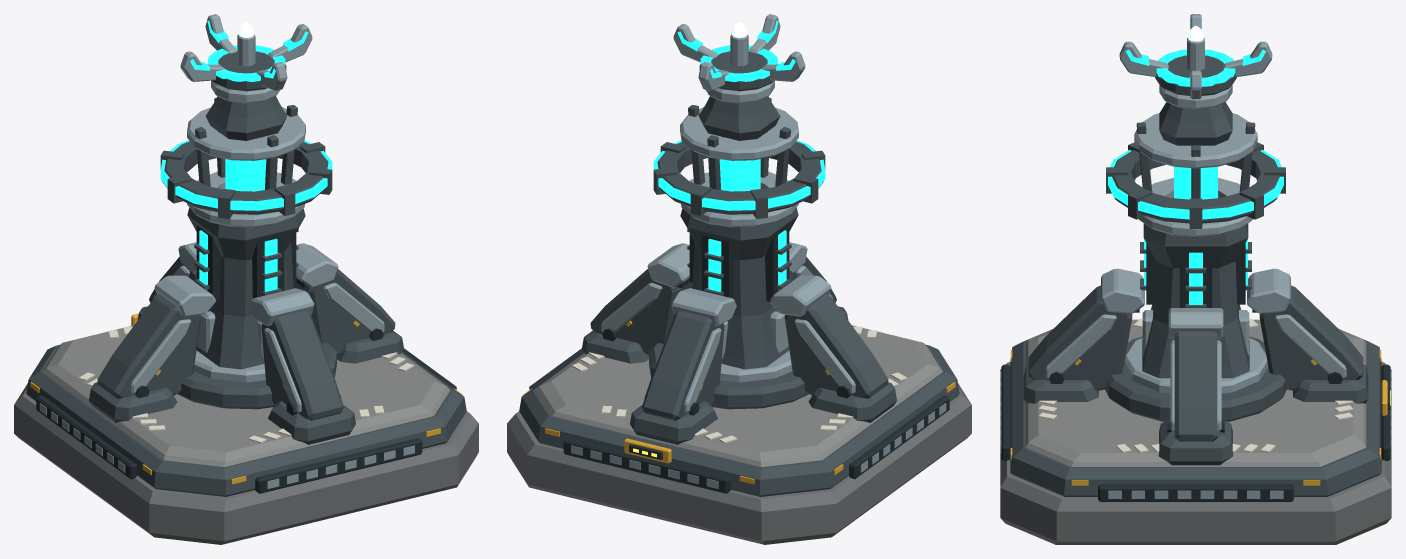
The model's file is capture_beacon_node.glb.
3 renders of one model, left to right at view 1: azimuth 30°, elevation 25°; view 2: azimuth 150°, elevation 25°; view 3: azimuth 270°, elevation 25°, orthographic. The views are drawn at different scales.
Visible parts, largest first — view 1: Octagonal excavation foundation | Geometry, Central extraction spire | Geometry, Capture ring and luminous extraction core | Geometry, Buttressed clamp 02 | Geometry, Buttressed clamp 03 | Geometry, Buttressed clamp 04 | Geometry, Rotating telemetry crown | Geometry, Buttressed clamp 01 | Geometry, Telemetry lower bearing | Geometry; view 2: Octagonal excavation foundation | Geometry, Central extraction spire | Geometry, Capture ring and luminous extraction core | Geometry, Buttressed clamp 02 | Geometry, Buttressed clamp 01 | Geometry, Buttressed clamp 04 | Geometry, Rotating telemetry crown | Geometry, Buttressed clamp 03 | Geometry, Telemetry lower bearing | Geometry, Forward docking and service interface | Geometry; view 3: Octagonal excavation foundation | Geometry, Central extraction spire | Geometry, Capture ring and luminous extraction core | Geometry, Buttressed clamp 01 | Geometry, Buttressed clamp 03 | Geometry, Buttressed clamp 04 | Geometry, Rotating telemetry crown | Geometry, Telemetry lower bearing | Geometry.
Part boxes in pixels (x1=…): Octagonal excavation foundation | Geometry: x1=14, y1=325, x2=478, y2=544; Central extraction spire | Geometry: x1=177, y1=96, x2=336, y2=409; Capture ring and luminous extraction core | Geometry: x1=160, y1=98, x2=332, y2=227; Buttressed clamp 02 | Geometry: x1=89, y1=275, x2=215, y2=422; Buttressed clamp 03 | Geometry: x1=249, y1=288, x2=355, y2=444; Buttressed clamp 04 | Geometry: x1=293, y1=243, x2=403, y2=363; Rotating telemetry crown | Geometry: x1=180, y1=14, x2=312, y2=91; Buttressed clamp 01 | Geometry: x1=137, y1=242, x2=196, y2=319; Telemetry lower bearing | Geometry: x1=211, y1=80, x2=279, y2=103; Octagonal excavation foundation | Geometry: x1=507, y1=325, x2=971, y2=544; Central extraction spire | Geometry: x1=649, y1=96, x2=808, y2=409; Capture ring and luminous extraction core | Geometry: x1=653, y1=98, x2=825, y2=227; Buttressed clamp 02 | Geometry: x1=770, y1=275, x2=896, y2=422; Buttressed clamp 01 | Geometry: x1=630, y1=288, x2=736, y2=444; Buttressed clamp 04 | Geometry: x1=582, y1=243, x2=692, y2=363; Rotating telemetry crown | Geometry: x1=673, y1=14, x2=805, y2=91; Buttressed clamp 03 | Geometry: x1=789, y1=242, x2=848, y2=319; Telemetry lower bearing | Geometry: x1=706, y1=80, x2=774, y2=103; Forward docking and service interface | Geometry: x1=624, y1=438, x2=671, y2=463; Octagonal excavation foundation | Geometry: x1=1000, y1=318, x2=1391, y2=544; Central extraction spire | Geometry: x1=1105, y1=102, x2=1286, y2=421; Capture ring and luminous extraction core | Geometry: x1=1106, y1=113, x2=1285, y2=237; Buttressed clamp 01 | Geometry: x1=1247, y1=268, x2=1368, y2=403; Buttressed clamp 03 | Geometry: x1=1023, y1=268, x2=1144, y2=403; Buttressed clamp 04 | Geometry: x1=1158, y1=308, x2=1233, y2=465; Rotating telemetry crown | Geometry: x1=1119, y1=14, x2=1272, y2=99; Telemetry lower bearing | Geometry: x1=1159, y1=85, x2=1232, y2=109.
Size of the model in its own units: 4.5 by 5.55 by 4.5.
